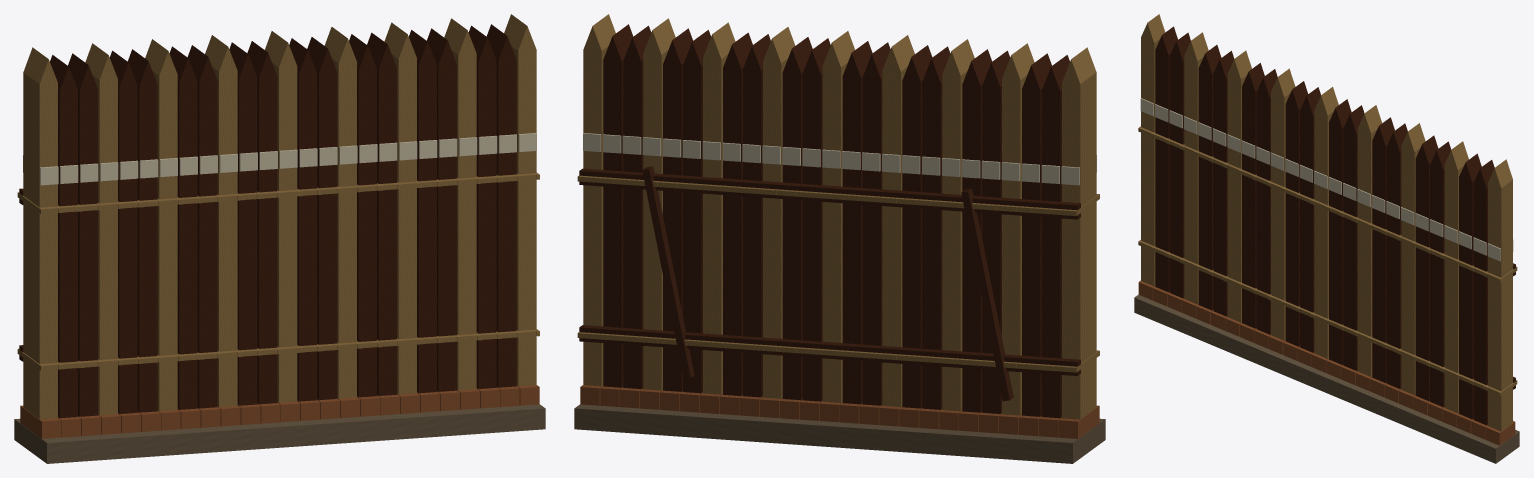
The model's file is Berber_Palisade_Age3_slope_down_6m.fbx.
3 renders of one model, left to right at view 1: azimuth 30°, elevation 25°; view 2: azimuth 150°, elevation 25°; view 3: azimuth 330°, elevation 25°, orthographic. The views are drawn at different scales.
Visible parts, largest first — view 1: palm_split_post.062, palm_split_post.057, palm_split_post.055, palm_split_post.059, palm_split_post.052, palm_split_post.064, palm_split_post.061, palm_split_post.058, earth_seat.008, post_earth_socket.008, neutral_owner_band.008, front_lashing.008 (+1 smaller); view 2: palm_split_post.057, palm_split_post.062, palm_split_post.052, palm_split_post.055, palm_split_post.059, earth_seat.008, palm_split_post.061, palm_split_post.058, palm_split_post.064, continuous_rear_tie.008, post_earth_socket.008, neutral_owner_band.008 (+3 smaller); view 3: palm_split_post.059, palm_split_post.057, palm_split_post.055, palm_split_post.062, palm_split_post.052, earth_seat.008, palm_split_post.058, palm_split_post.061, palm_split_post.064, post_earth_socket.008, neutral_owner_band.008, front_lashing.008 (+1 smaller).
Boxes of the visible parts, bbox=[...] form: palm_split_post.062: bbox=[169, 24, 516, 409]; palm_split_post.057: bbox=[68, 25, 496, 416]; palm_split_post.055: bbox=[50, 32, 396, 418]; palm_split_post.059: bbox=[109, 28, 456, 413]; palm_split_post.052: bbox=[23, 14, 536, 419]; palm_split_post.064: bbox=[205, 18, 476, 406]; palm_split_post.061: bbox=[145, 22, 416, 411]; palm_split_post.058: bbox=[85, 27, 356, 415]; earth_seat.008: bbox=[14, 404, 545, 463]; post_earth_socket.008: bbox=[20, 385, 539, 438]; neutral_owner_band.008: bbox=[23, 133, 536, 185]; front_lashing.008: bbox=[40, 173, 538, 370]; palm_split_post.057: bbox=[623, 25, 1051, 416]; palm_split_post.062: bbox=[603, 24, 950, 409]; palm_split_post.052: bbox=[583, 14, 1096, 419]; palm_split_post.055: bbox=[723, 32, 1069, 418]; palm_split_post.059: bbox=[663, 28, 1010, 413]; earth_seat.008: bbox=[574, 404, 1105, 463]; palm_split_post.061: bbox=[703, 22, 974, 411]; palm_split_post.058: bbox=[763, 27, 1034, 415]; palm_split_post.064: bbox=[643, 18, 914, 406]; continuous_rear_tie.008: bbox=[579, 168, 1080, 375]; post_earth_socket.008: bbox=[580, 385, 1099, 438]; neutral_owner_band.008: bbox=[583, 133, 1096, 185]; palm_split_post.059: bbox=[1198, 45, 1451, 407]; palm_split_post.057: bbox=[1169, 32, 1481, 419]; palm_split_post.055: bbox=[1155, 26, 1407, 388]; palm_split_post.062: bbox=[1242, 63, 1494, 425]; palm_split_post.052: bbox=[1141, 14, 1512, 431]; earth_seat.008: bbox=[1134, 294, 1519, 463]; palm_split_post.058: bbox=[1184, 32, 1381, 376]; palm_split_post.061: bbox=[1227, 50, 1425, 395]; palm_split_post.064: bbox=[1271, 68, 1468, 413]; post_earth_socket.008: bbox=[1138, 280, 1515, 445]; neutral_owner_band.008: bbox=[1140, 98, 1513, 261]; front_lashing.008: bbox=[1139, 127, 1501, 394].
Bounding box in the file's own units: 601 × 556 × 68.29.
Materials: 5 (5 with a texture image).
